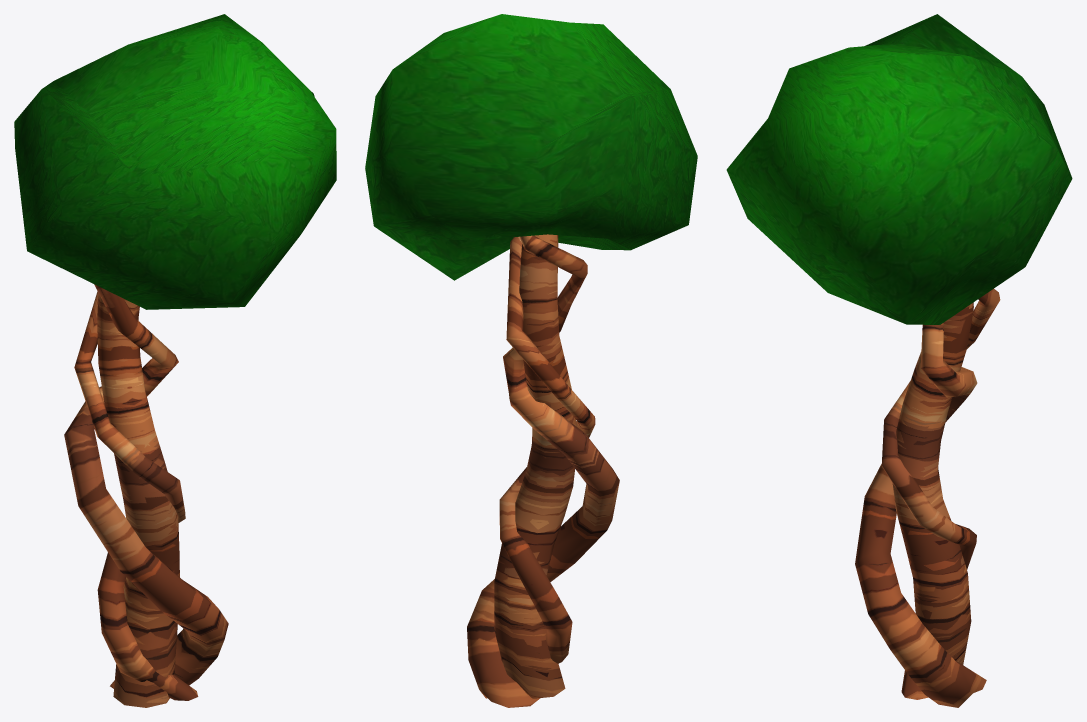
Rendered from tree 4.fbx.
3 views of the same model, side by side, from view 1: azimuth 30°, elevation 25°; view 2: azimuth 150°, elevation 25°; view 3: azimuth 270°, elevation 25° (orthographic). The views are drawn at different scales.
Visible parts, largest first — view 1: tree_4; view 2: tree_4; view 3: tree_4.
Boxes of the visible parts, x1,y1,x2,y2 form: tree_4: [14, 14, 336, 707]; tree_4: [365, 14, 697, 707]; tree_4: [726, 14, 1072, 707].
Bounding box in the file's own units: 28.28 × 60 × 28.46.
